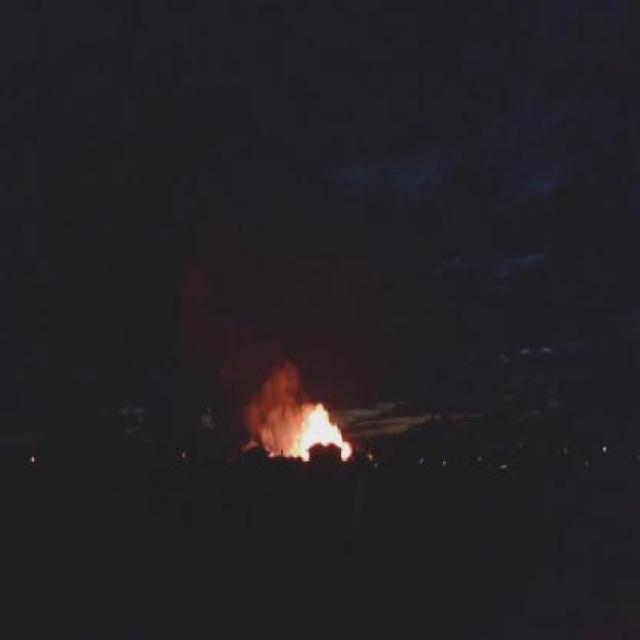Fire: (296, 401, 347, 457)
Smoke: (258, 364, 304, 460)
